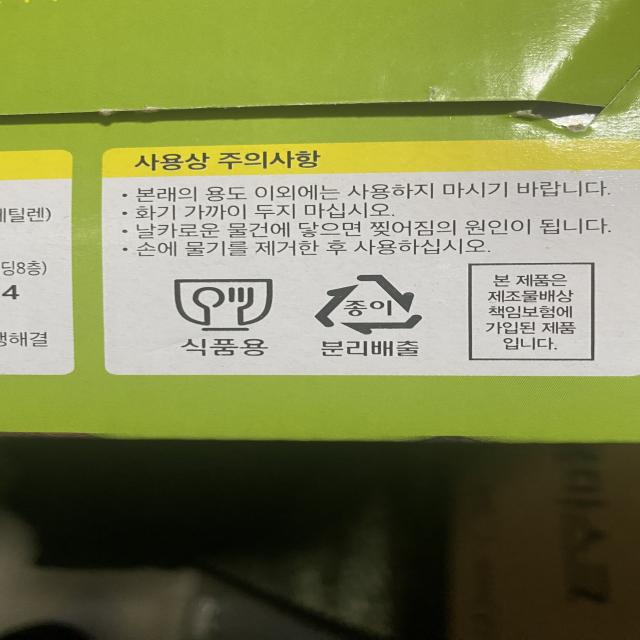Paper: (311, 267, 422, 340)
